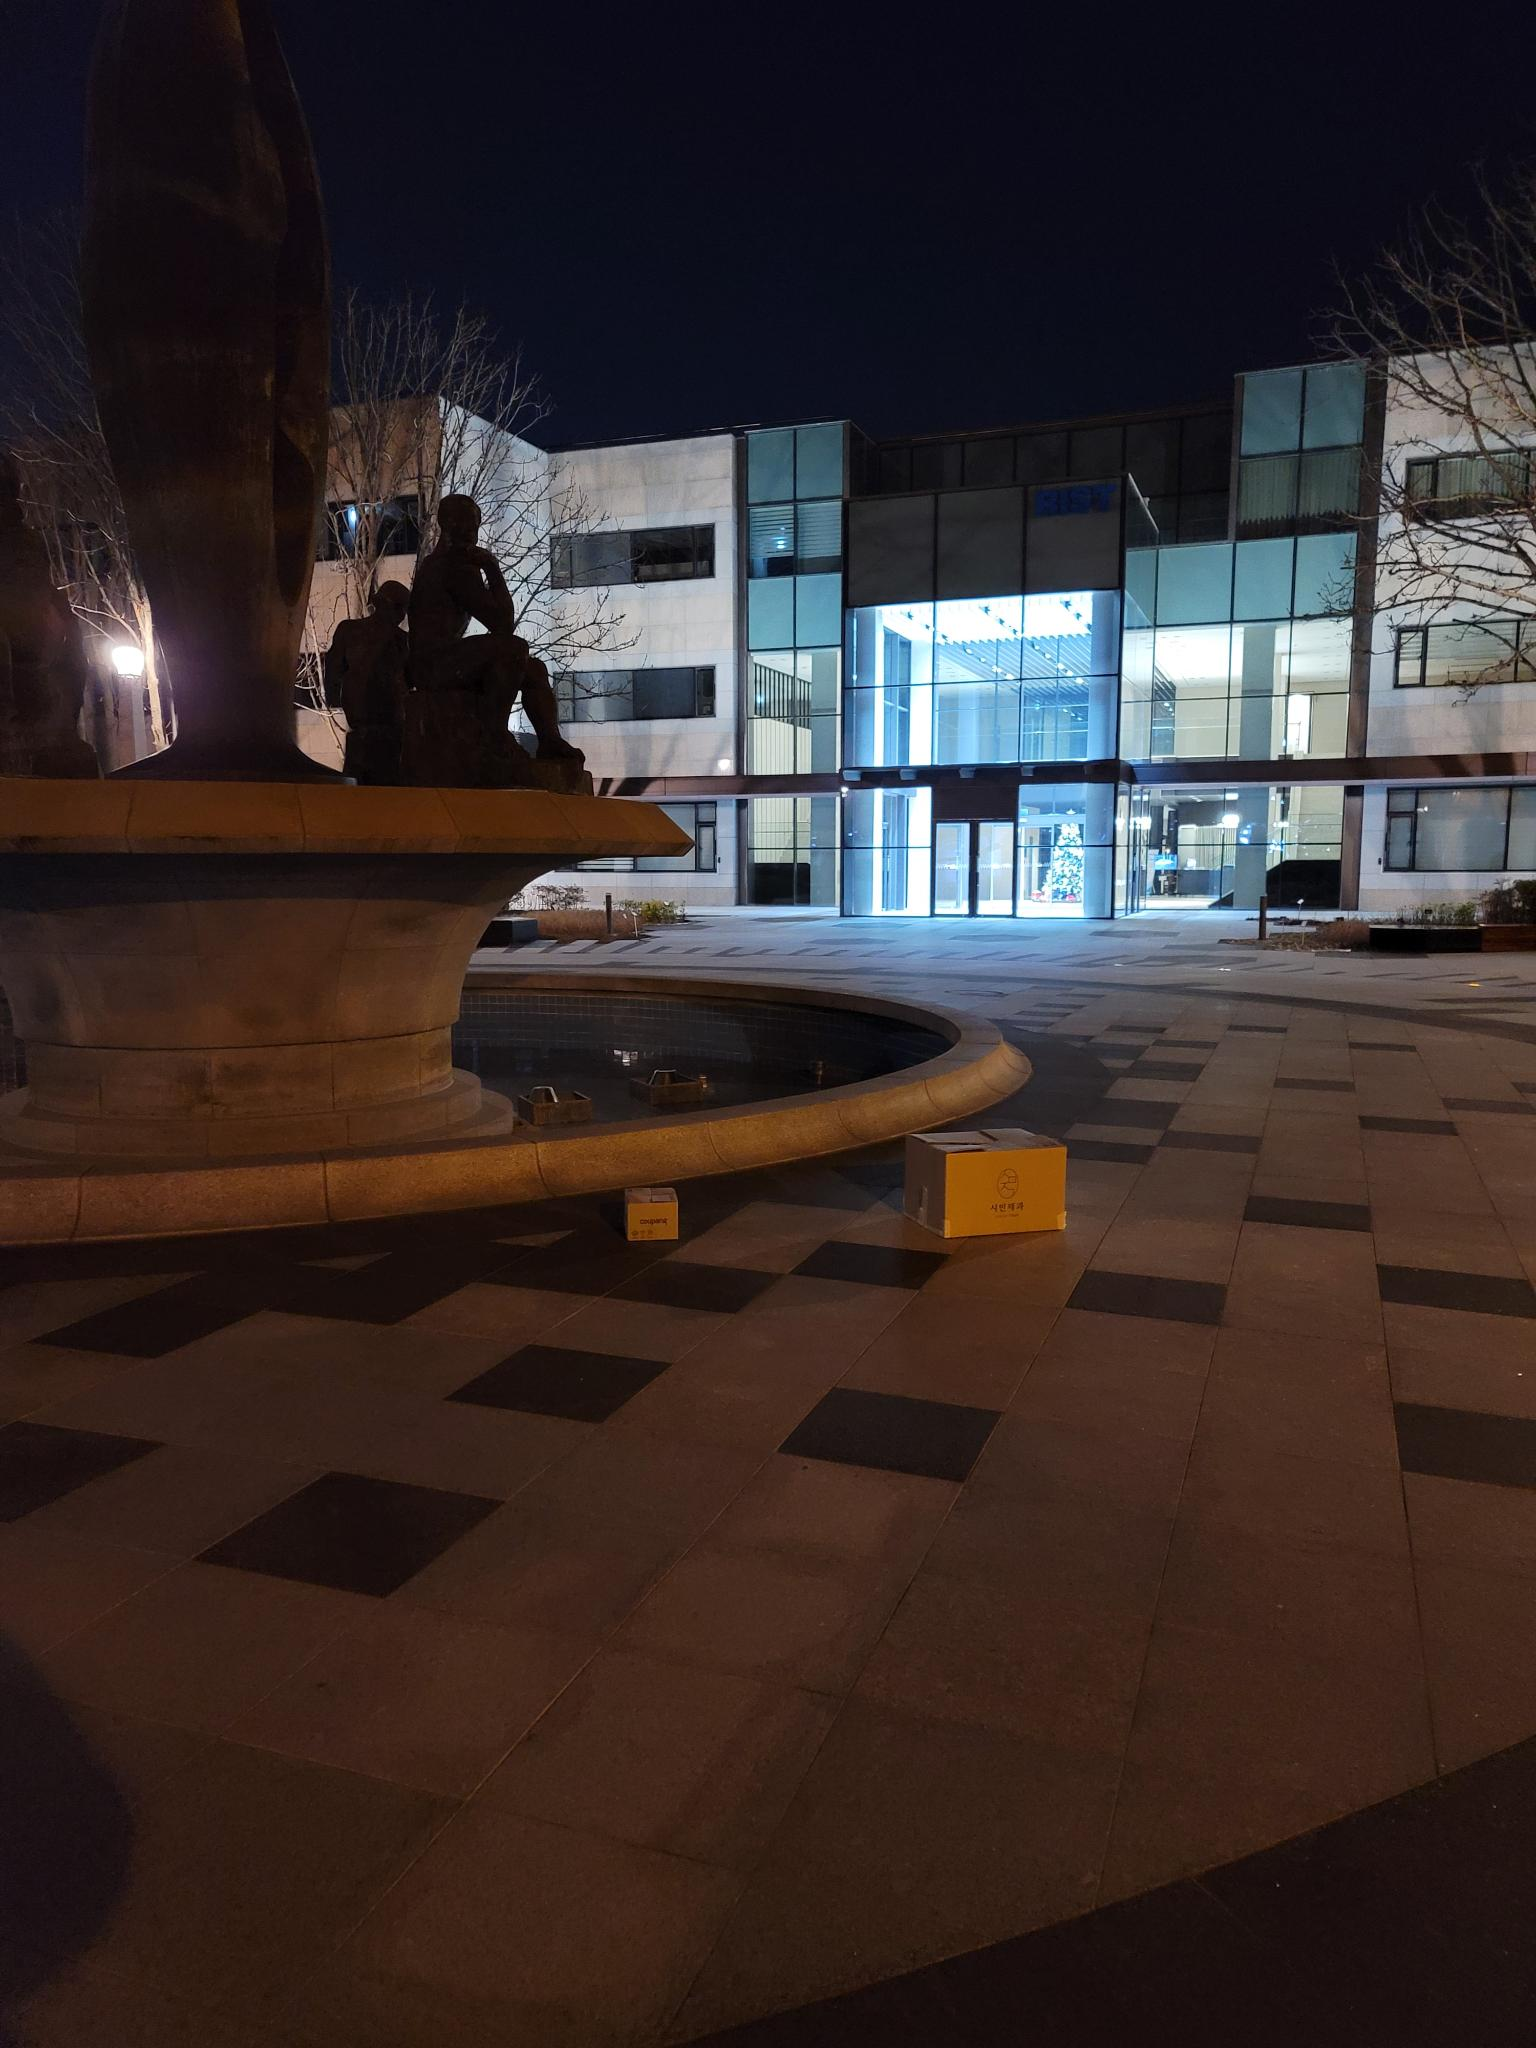Box: (887, 1119, 1078, 1243), (621, 1172, 692, 1247)
